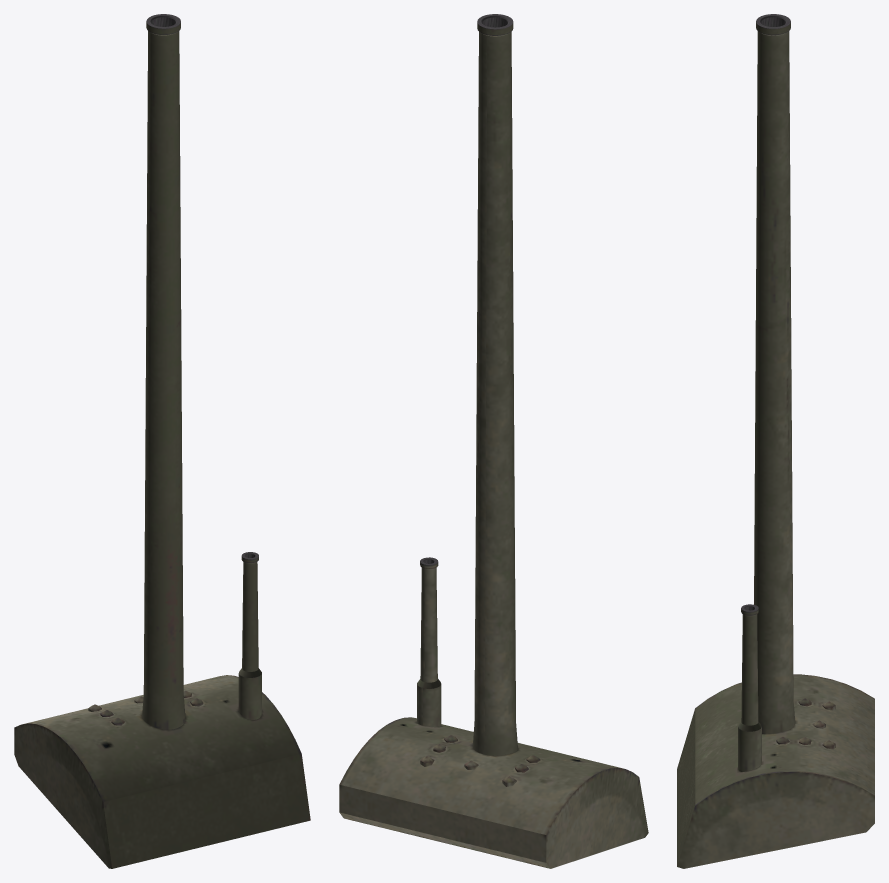
The model's file is Gun_02.glb.
The picture shows the model from 3 angles, left to right: view 1: azimuth 30°, elevation 25°; view 2: azimuth 150°, elevation 25°; view 3: azimuth 270°, elevation 25°; orthographic projection. The views are drawn at different scales.
Visible parts, largest first — view 1: set_0_group_0; view 2: set_0_group_0; view 3: set_0_group_0.
Boxes of the visible parts, box(x1,y1,x2,y2) form: set_0_group_0: box(14, 14, 310, 868); set_0_group_0: box(339, 14, 648, 868); set_0_group_0: box(677, 14, 874, 868).
Bounding box in the file's own units: 0.9947 × 3.78 × 0.8502.
Materials: 1 (1 with a texture image).
